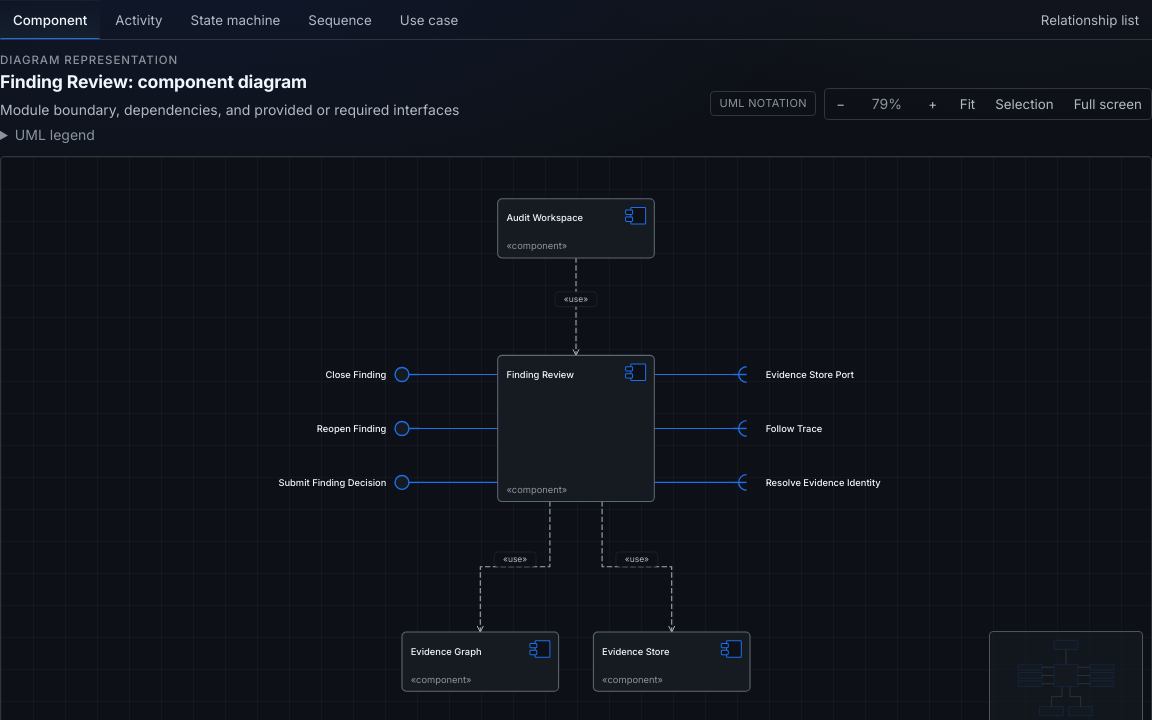
Test: Module diagrams (§9.8, §15) — an approved sample module › toggles a text relationship-list alternative to the SVG diagram (§15.2, §18.4)
Click the button "Relationship list" at (1090, 20), box top-left (1028, 4), bottom-right (1151, 36)
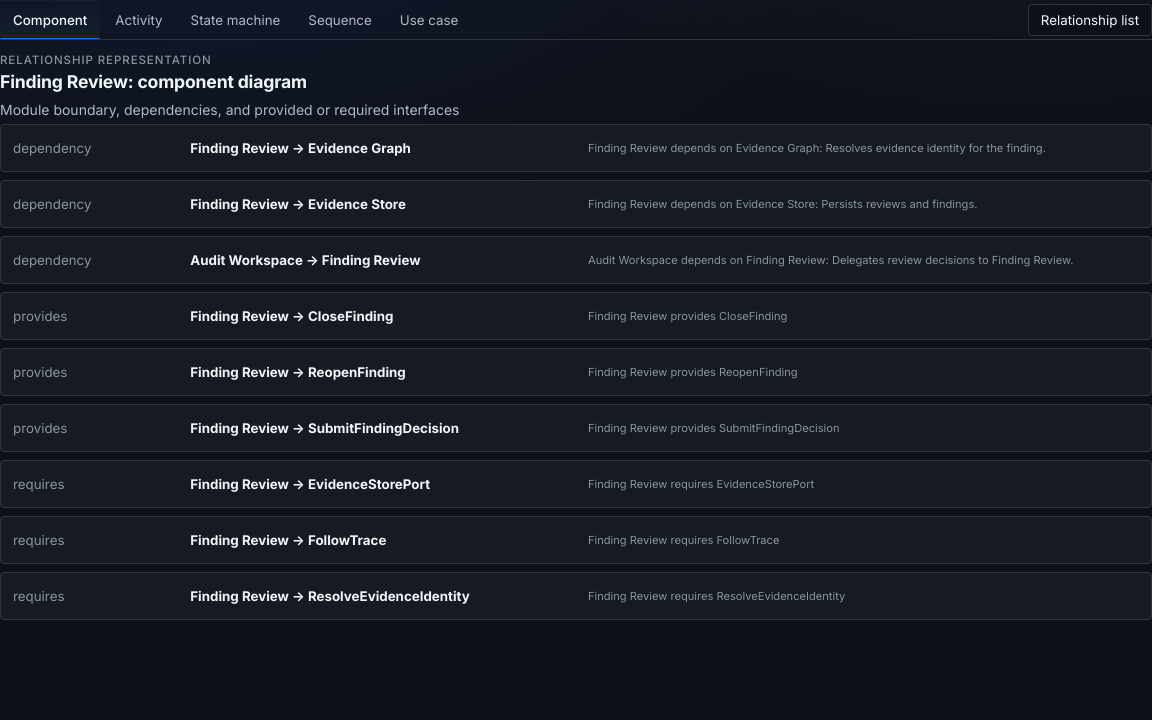
Result: the list named "Relationship list" is shown
